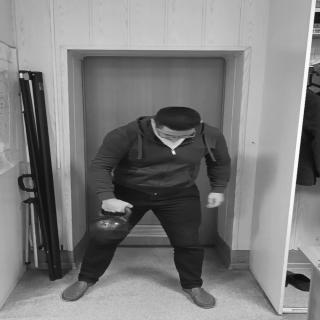kettlebell: (92, 206, 135, 240)
